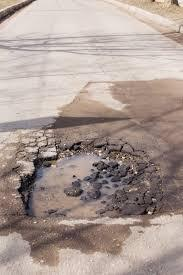pothole: (19, 131, 164, 245)
